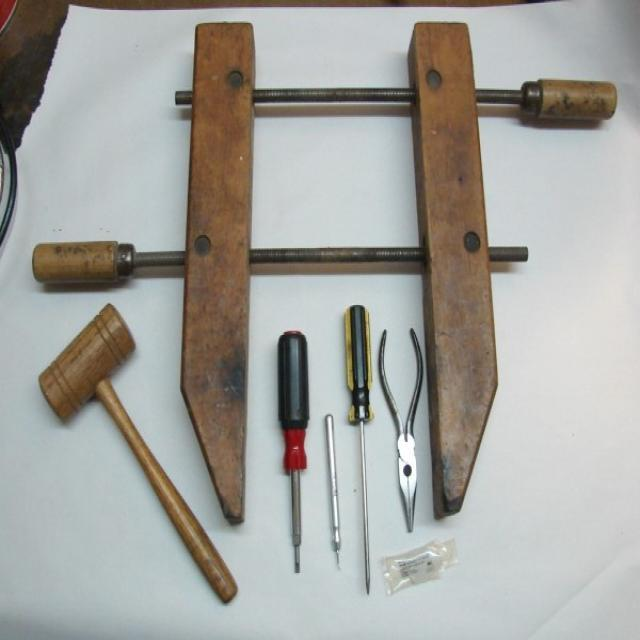hammer: (27, 296, 245, 618)
pliers: (374, 311, 434, 554)
screwdriver: (260, 313, 318, 591), (338, 288, 383, 613)
